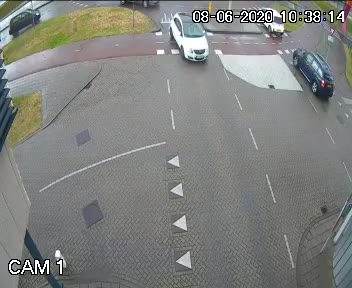car: (162, 7, 213, 66), (284, 42, 338, 96), (253, 7, 284, 37), (7, 7, 42, 32)
